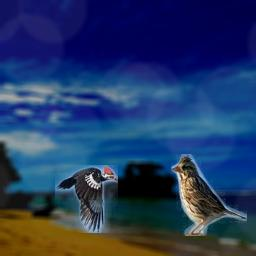Sparrow: (171, 154, 247, 236)
Woodpecker: (55, 165, 118, 233)
